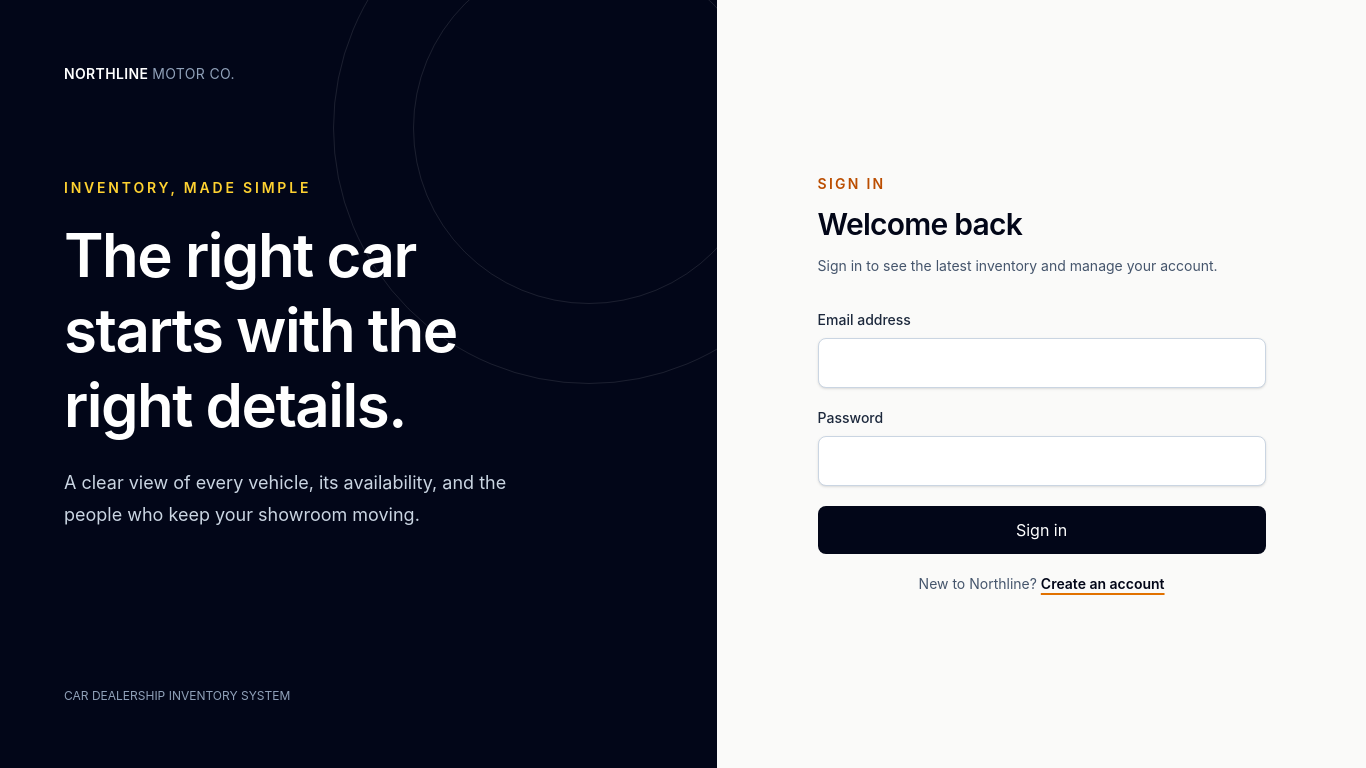
dealership application › shows login and registration forms and links between them
Expected: the heading "Welcome back" is shown, [818,206,1022,242]
Click the link "Create an account".
click(1103, 584)  # box [1041,575,1164,592]
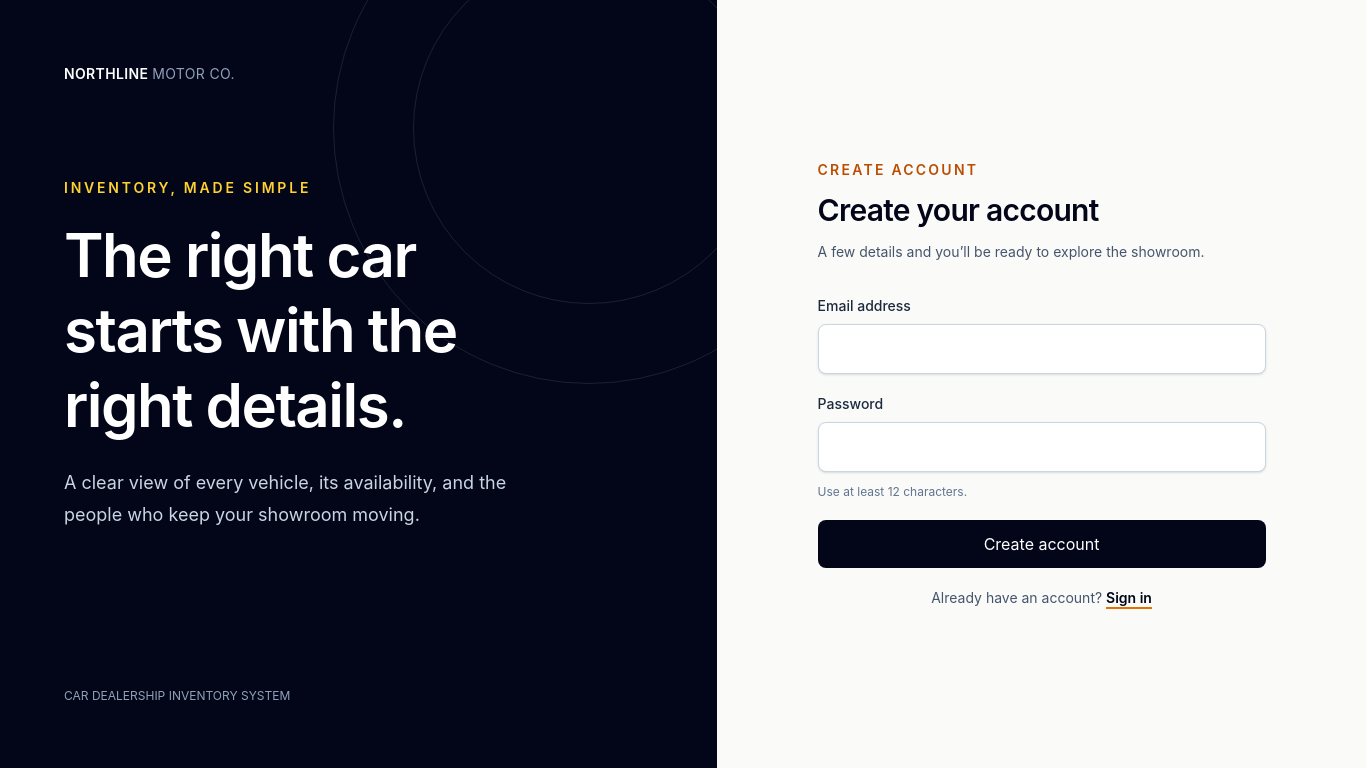
Expected: the heading "Create your account" is shown, [818,192,1098,228]
Expected: the field labelled "Email address" is shown, [818,324,1266,374]
Expected: the password field labelled "Password" is shown, [818,422,1266,472]
